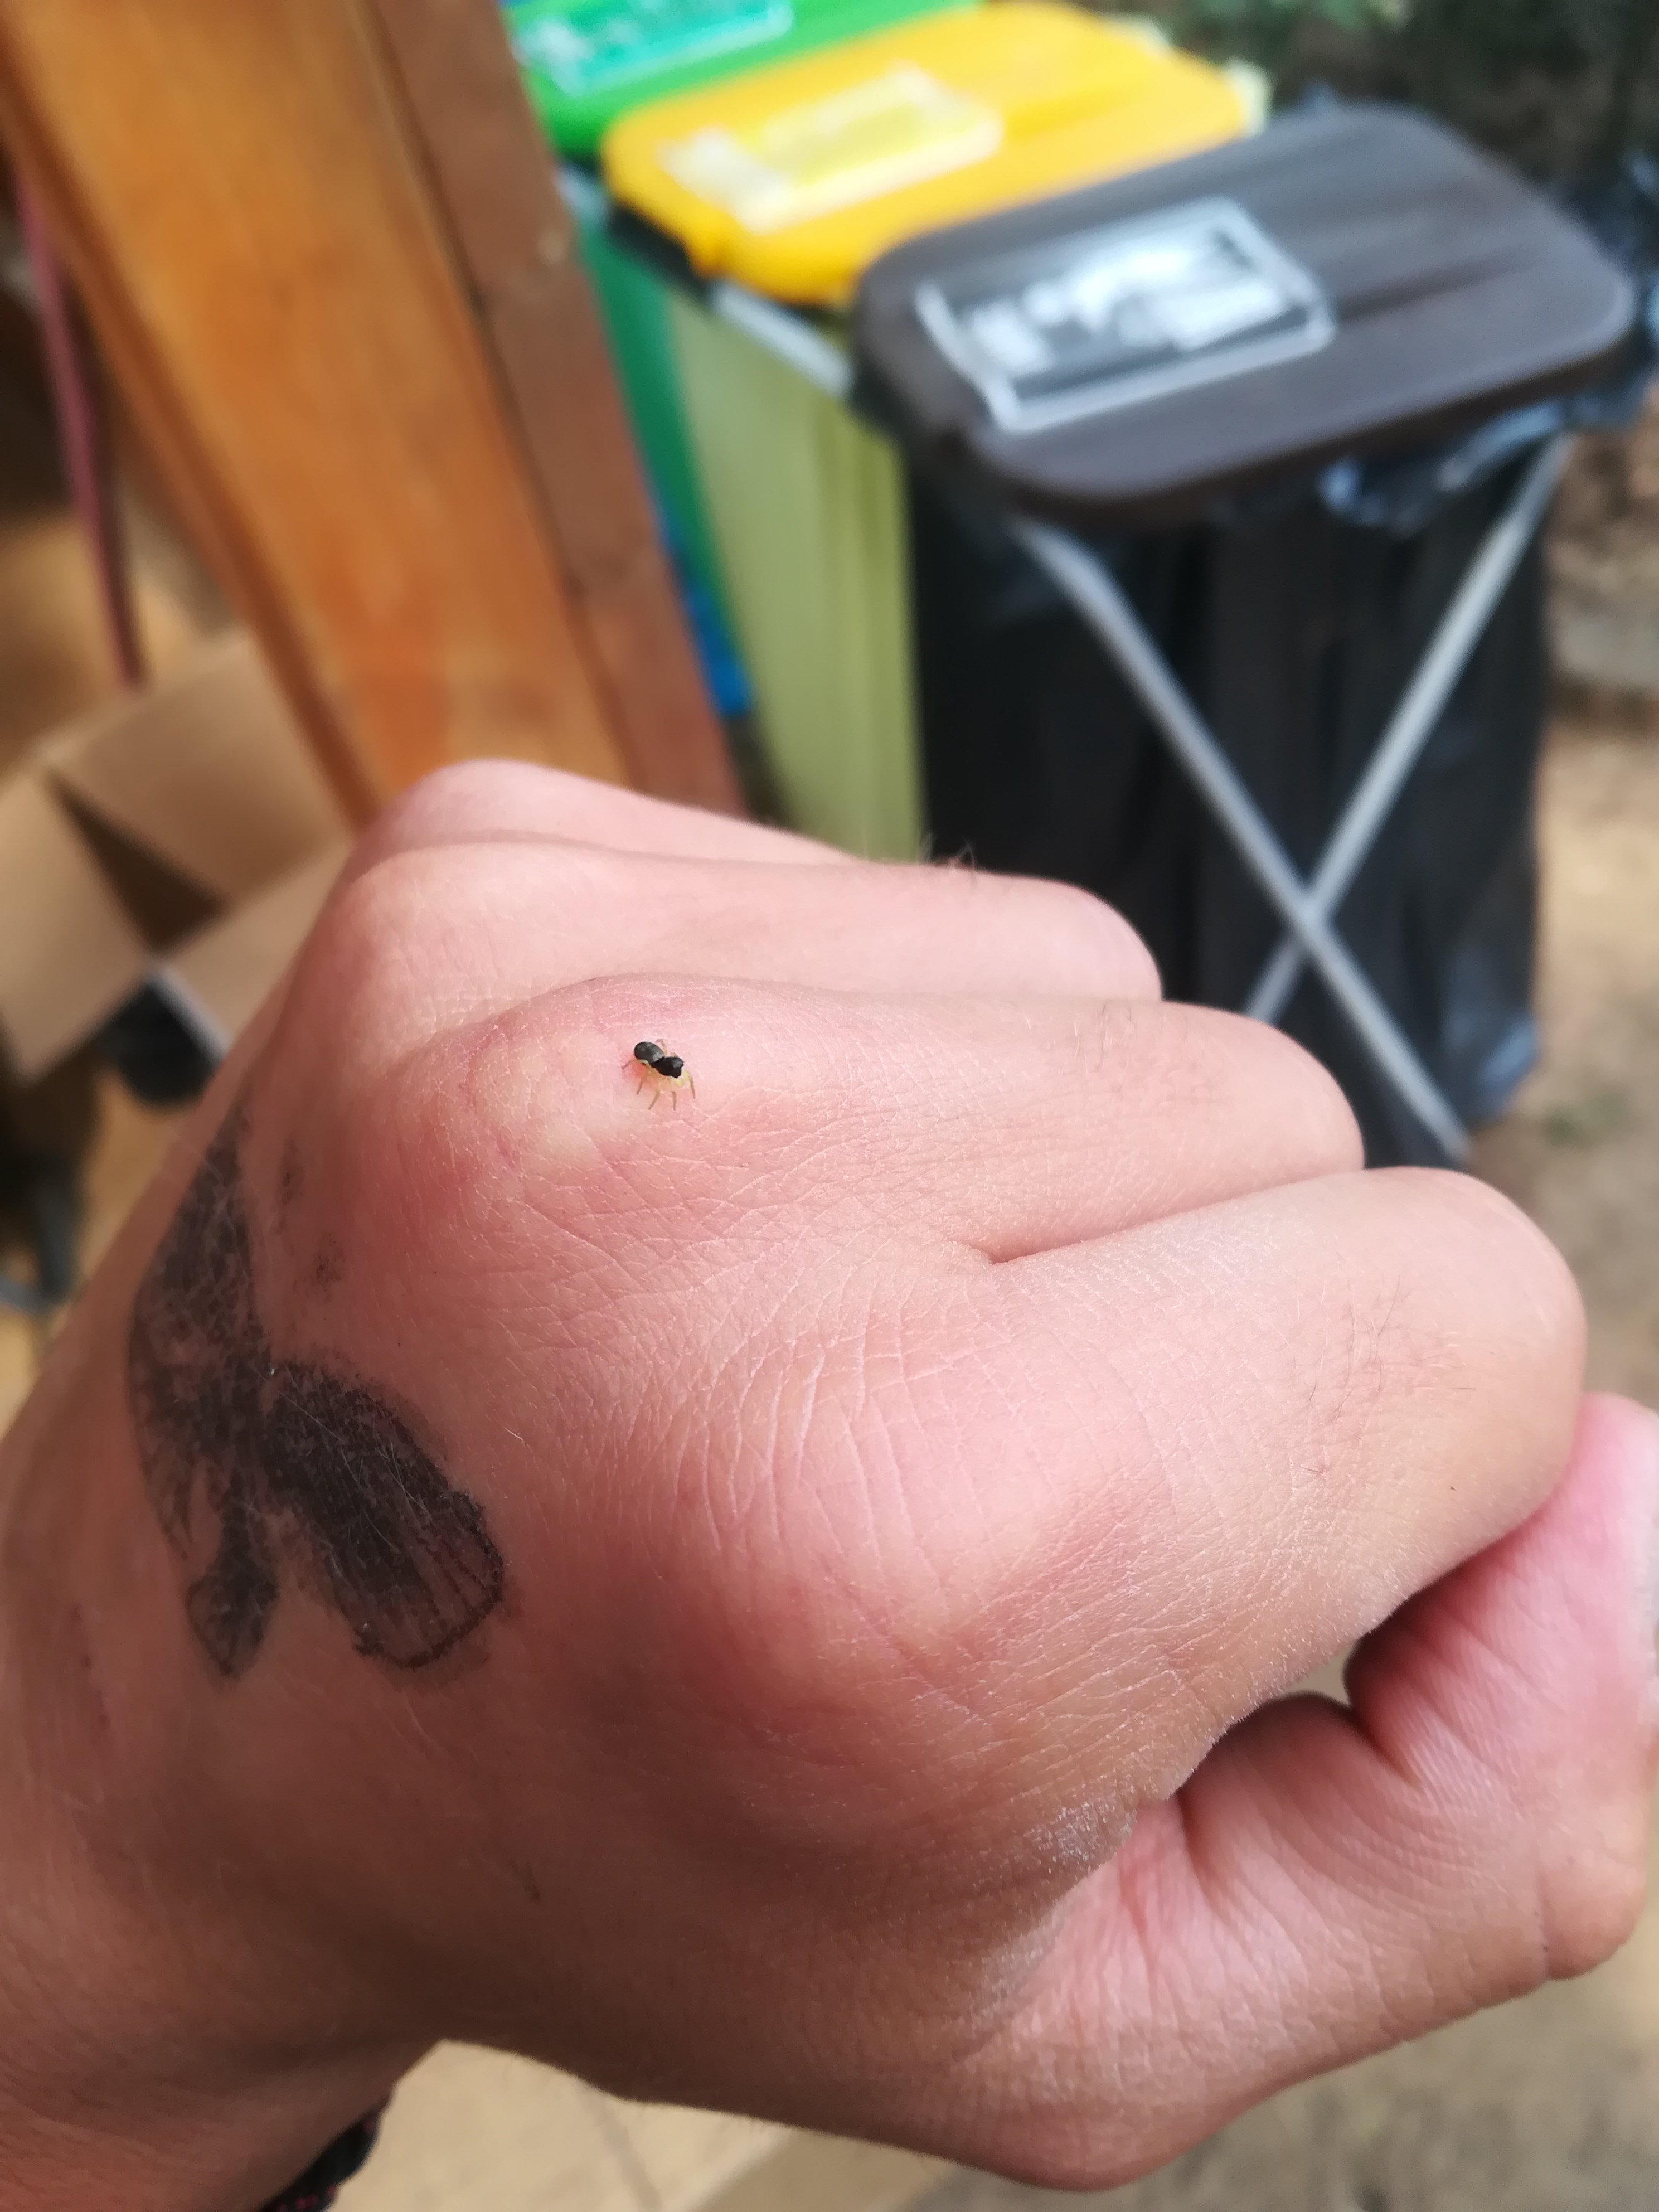spider: (591, 1010, 723, 1139)
